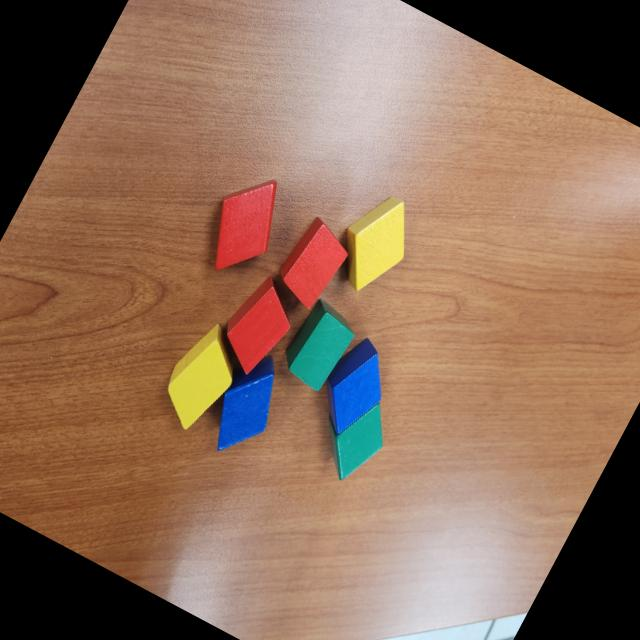blue: (198, 344, 297, 466), (306, 330, 403, 444)
green: (304, 382, 401, 489), (272, 294, 362, 396)
red: (190, 161, 296, 286), (208, 266, 308, 383), (269, 213, 357, 314)
yellow: (150, 314, 254, 438), (324, 184, 426, 302)
